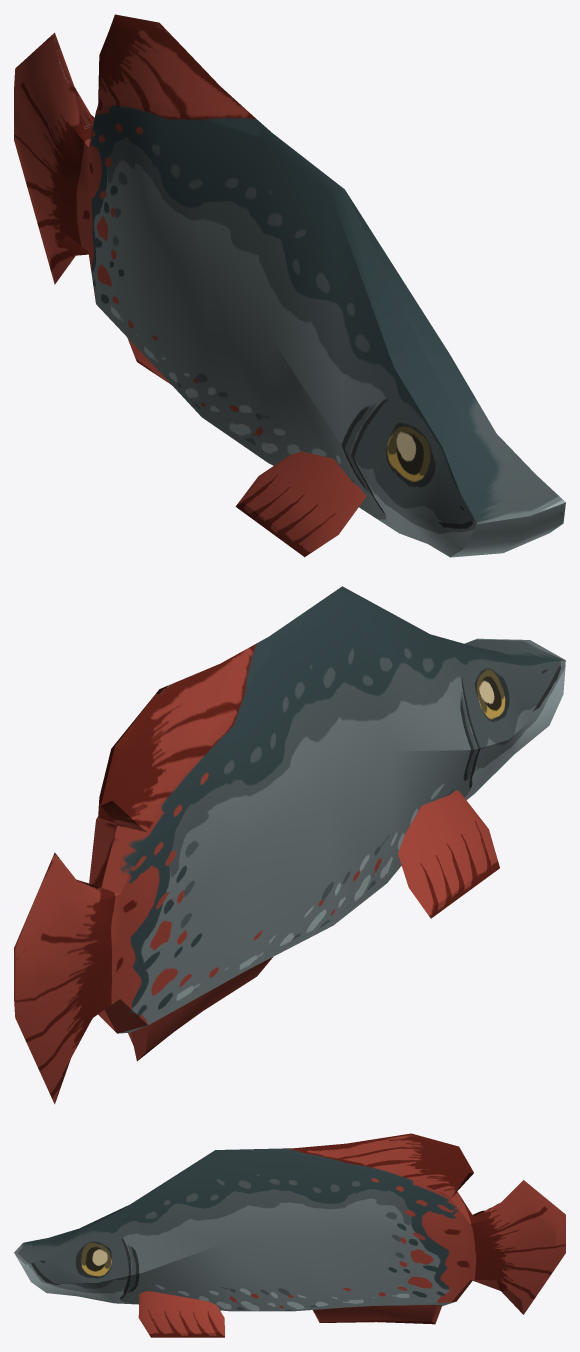
Rendered from Pirarucu.fbx.
The picture shows the model from 3 angles, top to bottom: view 1: azimuth 30°, elevation 25°; view 2: azimuth 150°, elevation 25°; view 3: azimuth 270°, elevation 25°; orthographic projection. The views are drawn at different scales.
Visible parts, largest first — view 1: Cube; view 2: Cube; view 3: Cube.
Part boxes in pixels (box(x1,y1,x2,y2)): Cube: box(14, 14, 565, 557); Cube: box(14, 586, 565, 1104); Cube: box(14, 1133, 565, 1337).
Bounding box in the file's own units: 105 × 183 × 479.
